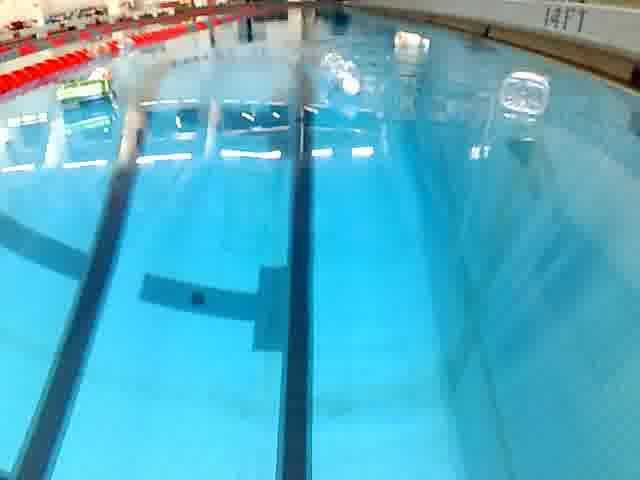Bottle: (494, 62, 558, 118), (316, 48, 366, 99), (387, 28, 439, 54), (88, 62, 114, 86)
Can: (54, 74, 118, 115)
